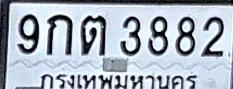2: (201, 15, 224, 56)
3: (120, 15, 141, 56)
8: (175, 16, 195, 56), (148, 15, 168, 55)
9: (17, 13, 38, 54)
A01: (46, 14, 73, 55)
A21: (80, 15, 106, 55)
BKK: (34, 70, 200, 89)
